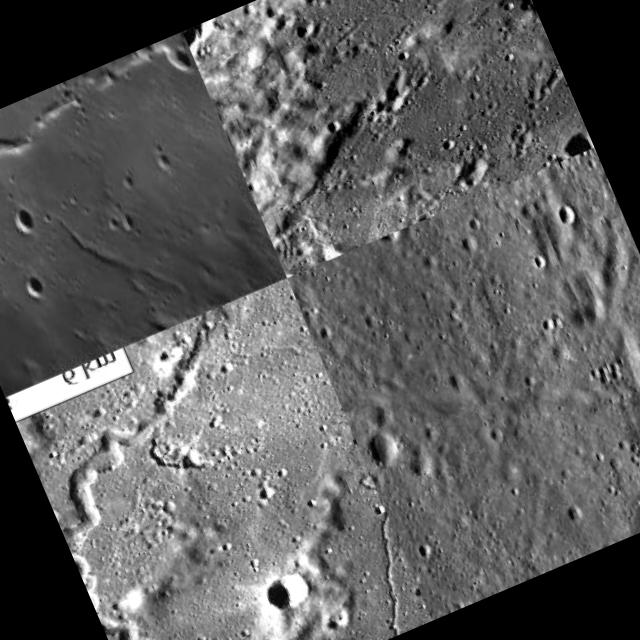rille: (5, 302, 372, 640), (0, 31, 284, 395), (323, 258, 625, 500), (222, 311, 431, 640), (256, 0, 578, 210)
